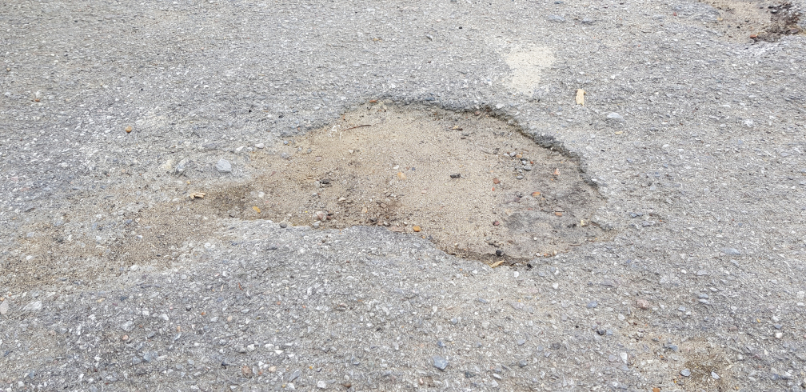pothole: (192, 87, 613, 277)
